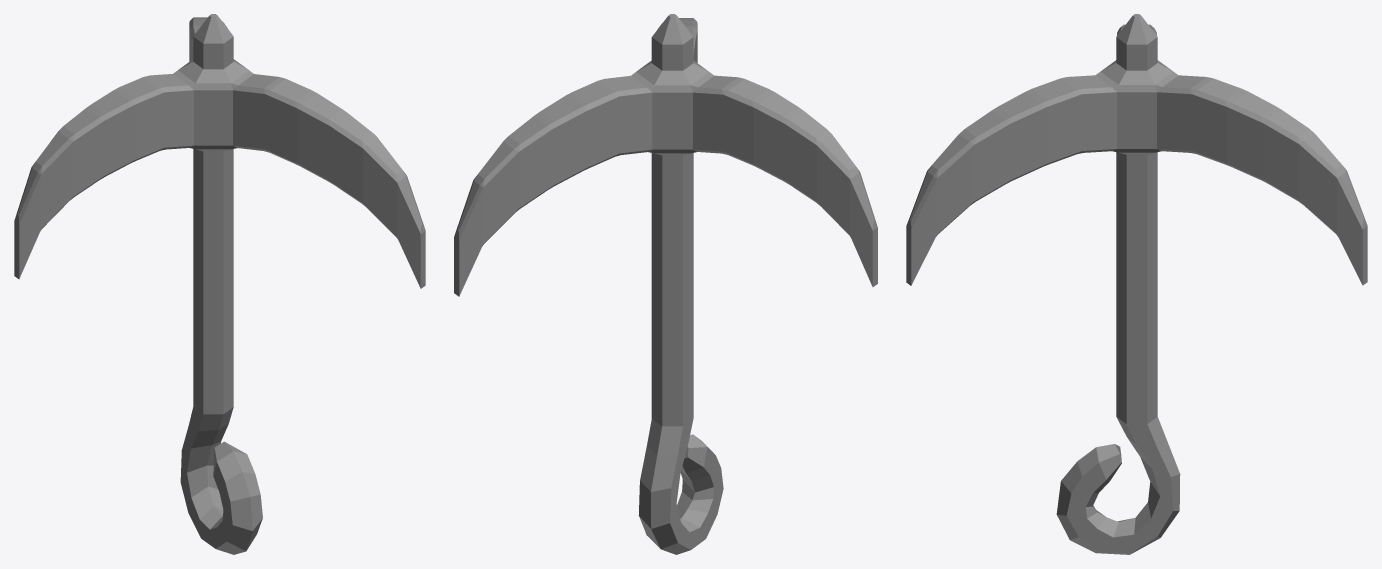
The model's file is grappling_hook.fbx.
The picture shows the model from 3 angles, left to right: view 1: azimuth 30°, elevation 25°; view 2: azimuth 150°, elevation 25°; view 3: azimuth 270°, elevation 25°; orthographic projection. The views are drawn at different scales.
Parts seen in each view (by area): view 1: Cylinder; view 2: Cylinder; view 3: Cylinder.
Boxes of the visible parts, bbox=[...] form: Cylinder: bbox=[14, 14, 425, 554]; Cylinder: bbox=[454, 14, 877, 554]; Cylinder: bbox=[906, 14, 1367, 554].
Size of the model in its own units: 38.56 by 64.89 by 50.31.
1 material, 1 textured.
